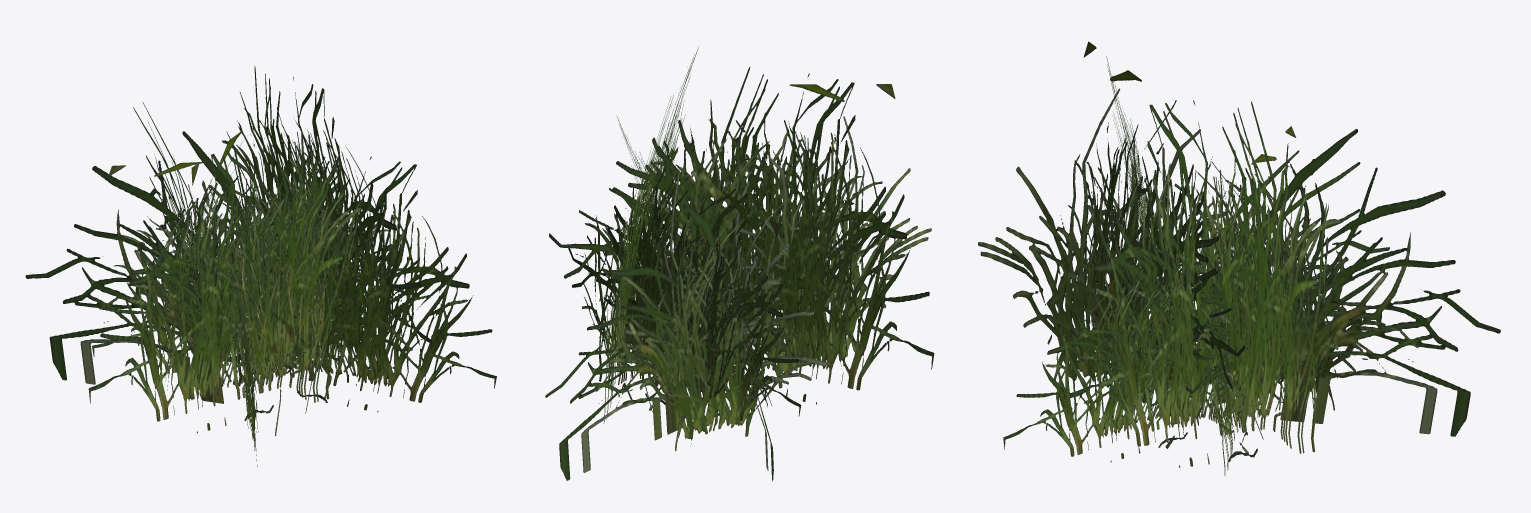
The model's file is meadow_grass_002_a_LOD1.gltf.
The picture shows the model from 3 angles, left to right: view 1: azimuth 30°, elevation 25°; view 2: azimuth 150°, elevation 25°; view 3: azimuth 270°, elevation 25°; orthographic projection. The views are drawn at different scales.
Parts seen in each view (by area): view 1: meadow_grass_002_a_LOD1; view 2: meadow_grass_002_a_LOD1; view 3: meadow_grass_002_a_LOD1.
Boxes of the visible parts, x1=… form: meadow_grass_002_a_LOD1: x1=25, y1=66, x2=496, y2=466; meadow_grass_002_a_LOD1: x1=545, y1=47, x2=934, y2=481; meadow_grass_002_a_LOD1: x1=978, y1=41, x2=1500, y2=475.
Size of the model in its own units: 0.9923 by 0.8225 by 1.2.
1 material, 1 textured.
